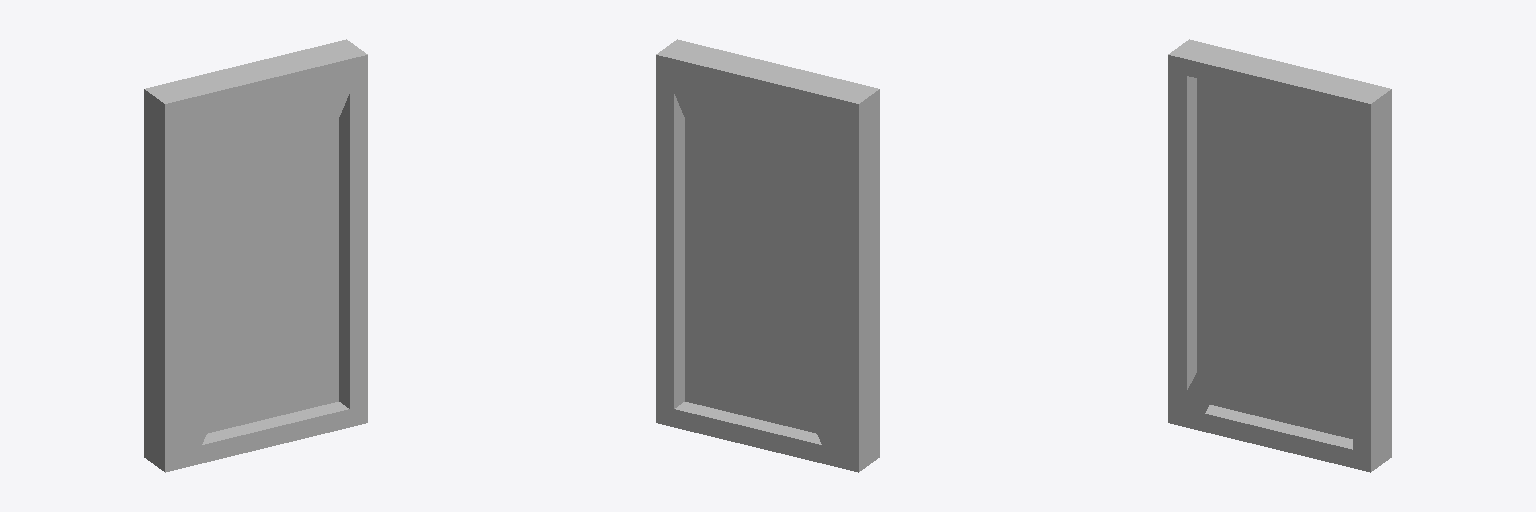
Rendered from door.obj.
The picture shows the model from 3 angles: view 1: azimuth 30°, elevation 25°; view 2: azimuth 150°, elevation 25°; view 3: azimuth 330°, elevation 25°; orthographic projection.
Visible parts, largest first — view 1: Door_Cube.001; view 2: Door_Cube.001; view 3: Door_Cube.001.
Part boxes in pixels (bbox=[...]): Door_Cube.001: bbox=[144, 39, 367, 472]; Door_Cube.001: bbox=[656, 39, 879, 472]; Door_Cube.001: bbox=[1168, 39, 1391, 472].
Bounding box in the file's own units: 7.92 × 13.74 × 1.42.